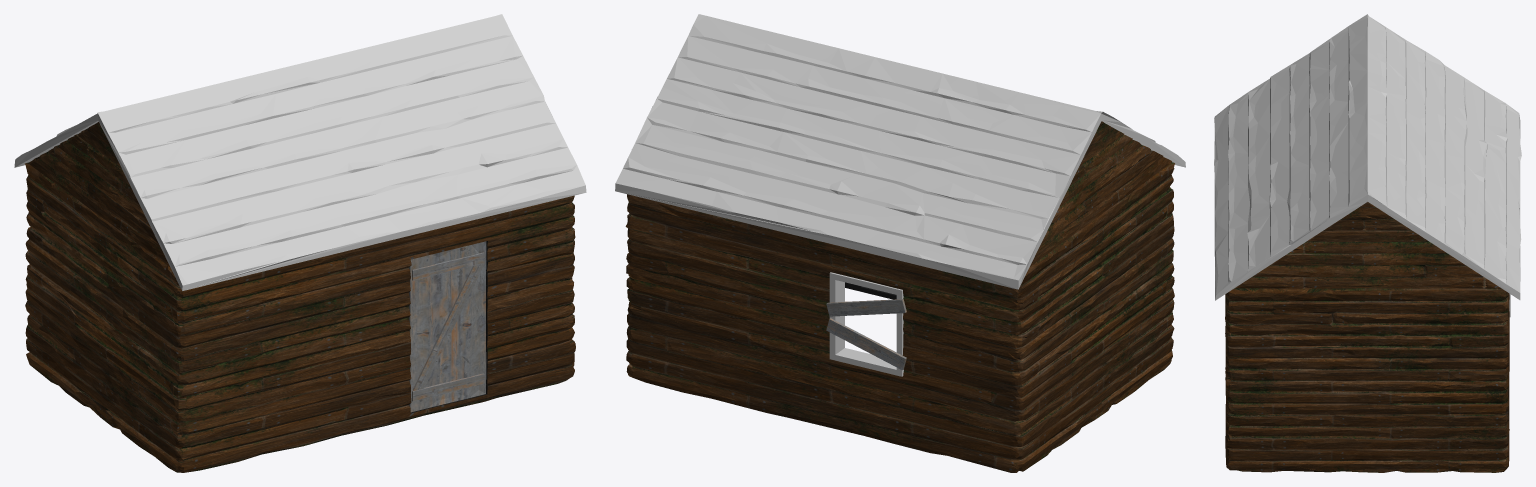
The model's file is house3_LOD.fbx.
3 views of the same model, side by side, from view 1: azimuth 30°, elevation 25°; view 2: azimuth 150°, elevation 25°; view 3: azimuth 270°, elevation 25° (orthographic). The views are drawn at different scales.
Parts seen in each view (by area): view 1: house_LOD0; view 2: house_LOD0; view 3: house_LOD0.
Part boxes in pixels (bbox=[...]): house_LOD0: bbox=[14, 14, 586, 472]; house_LOD0: bbox=[615, 14, 1185, 472]; house_LOD0: bbox=[1214, 14, 1521, 472].
Size of what is drawn, in the model's own units: 465 by 338 by 336.
